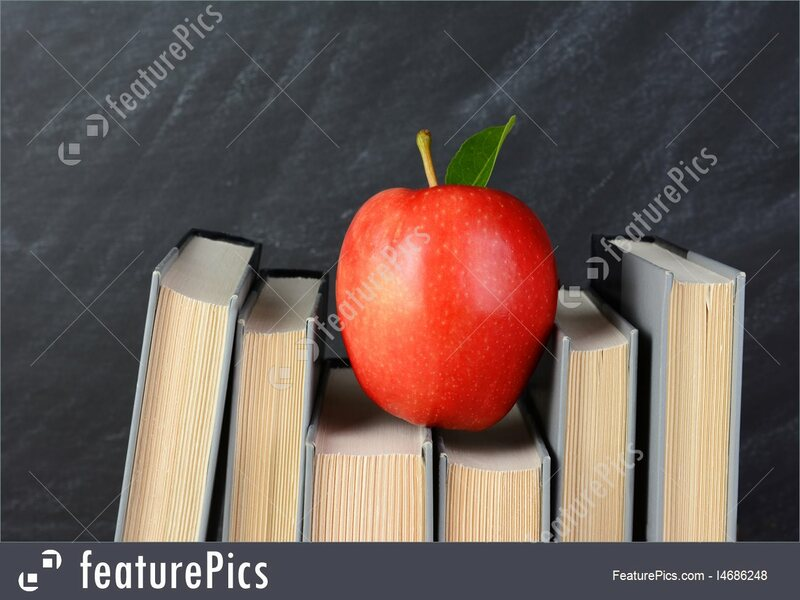apple: (331, 164, 550, 427)
